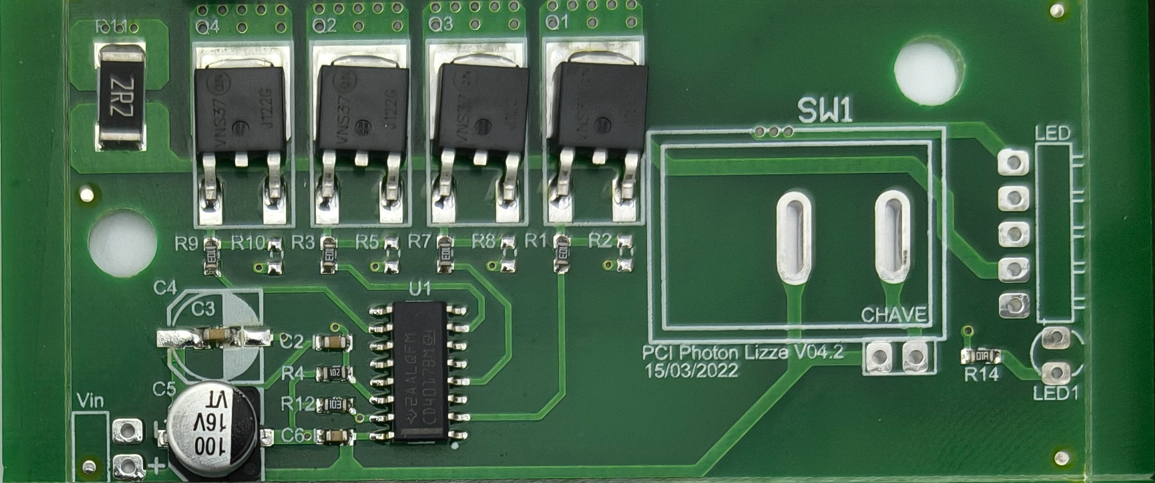C+: (314, 427, 357, 452), (310, 332, 353, 351)
R+: (314, 359, 355, 392), (196, 235, 224, 278), (960, 342, 1005, 368), (554, 230, 577, 279), (313, 394, 358, 419), (435, 232, 460, 274), (317, 236, 341, 274)
R/CFaltante: (615, 232, 637, 277), (262, 235, 284, 279), (382, 235, 402, 277), (501, 229, 517, 277)
U+: (362, 297, 479, 453)
